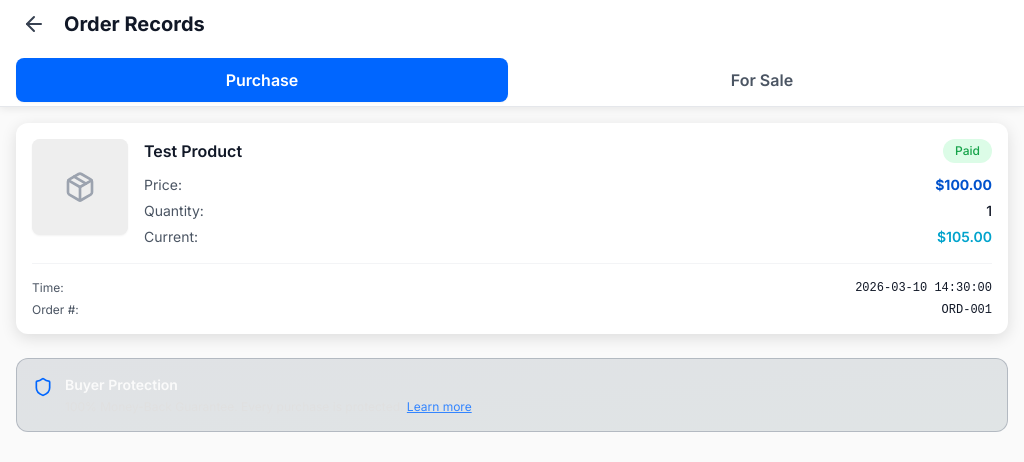
it: OrderRecordPage › switches to For sale tab and shows empty state
Check: the heading "Test Product" is shown, box [144,141,242,161]
Click the button "For Sale" at (762, 80), box [516,58,1008,102]
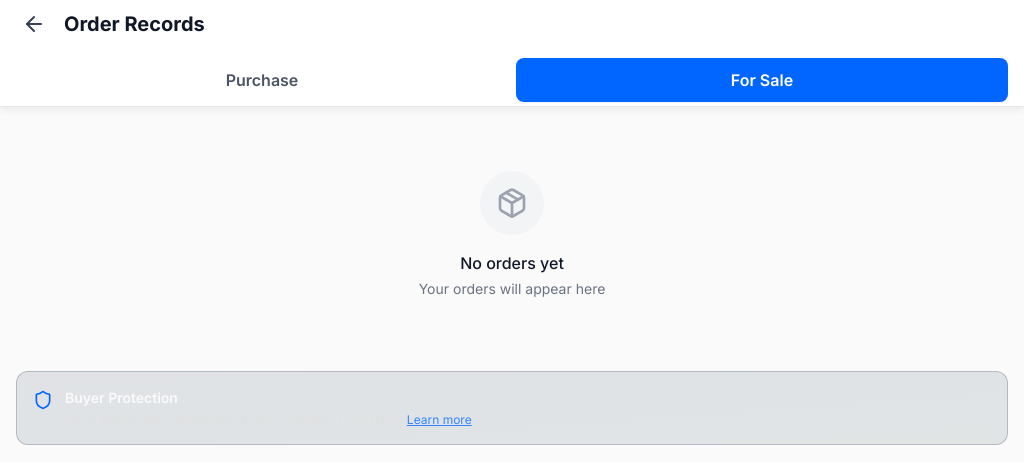
Check: the heading "No orders yet" is shown, box [460,251,564,275]
